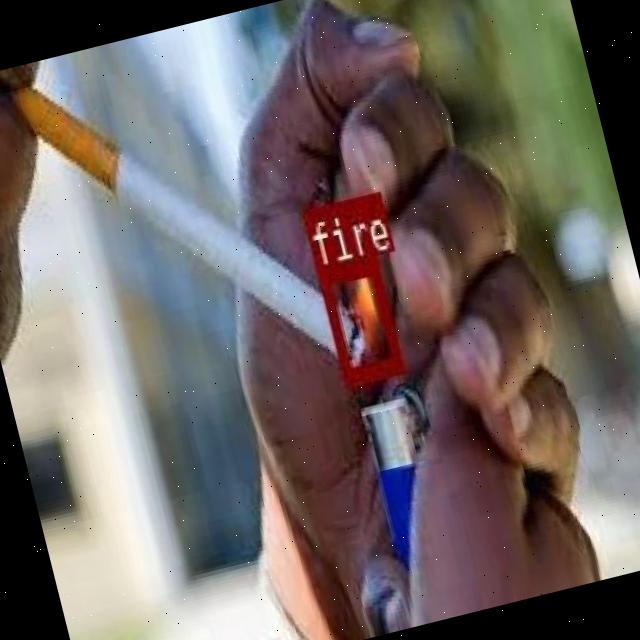fire: (316, 254, 400, 384)
